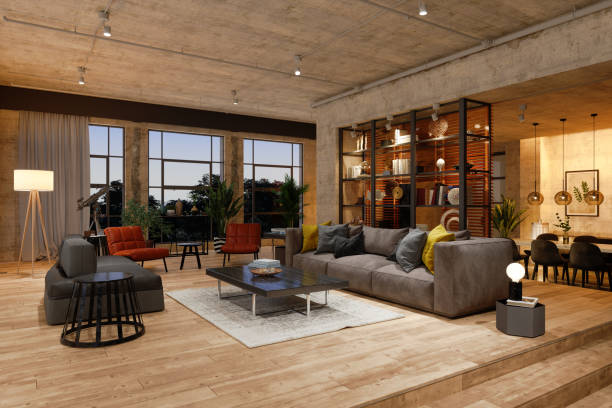chair: (103, 222, 171, 273), (221, 221, 264, 264)
dining table set: (522, 229, 612, 291)
floor lamp: (11, 165, 57, 279)
large plant: (486, 195, 523, 237)
side table: (60, 273, 146, 352)
sofa: (282, 219, 523, 321)
table: (203, 262, 351, 321)
wall art: (564, 168, 600, 218)
